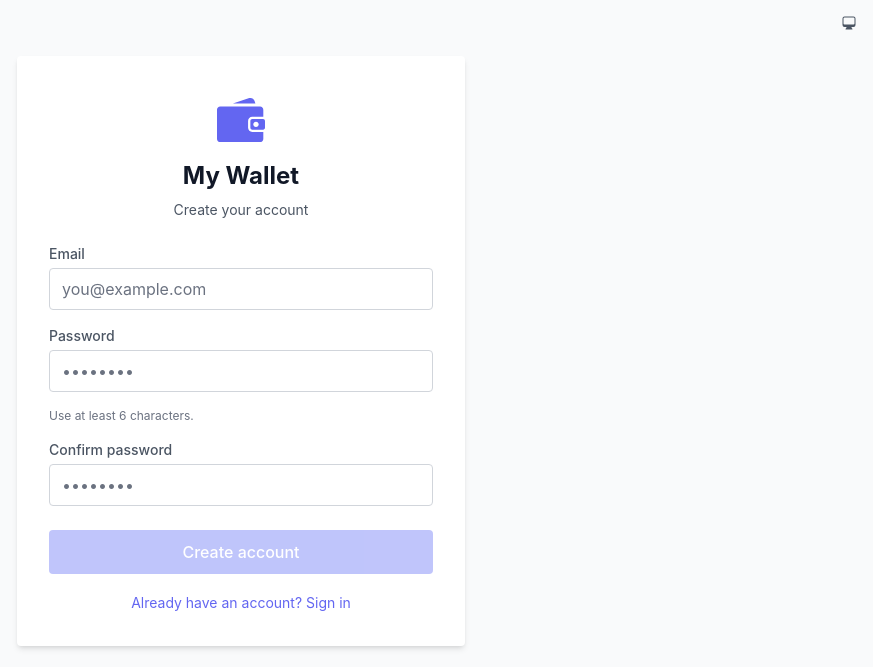
it: SignUp › asks the new user to confirm their email address
The image size is (873, 667).
Step 1. Type "new@example.com" into the field labelled "Email" → (241, 289), box [49,268,433,310]
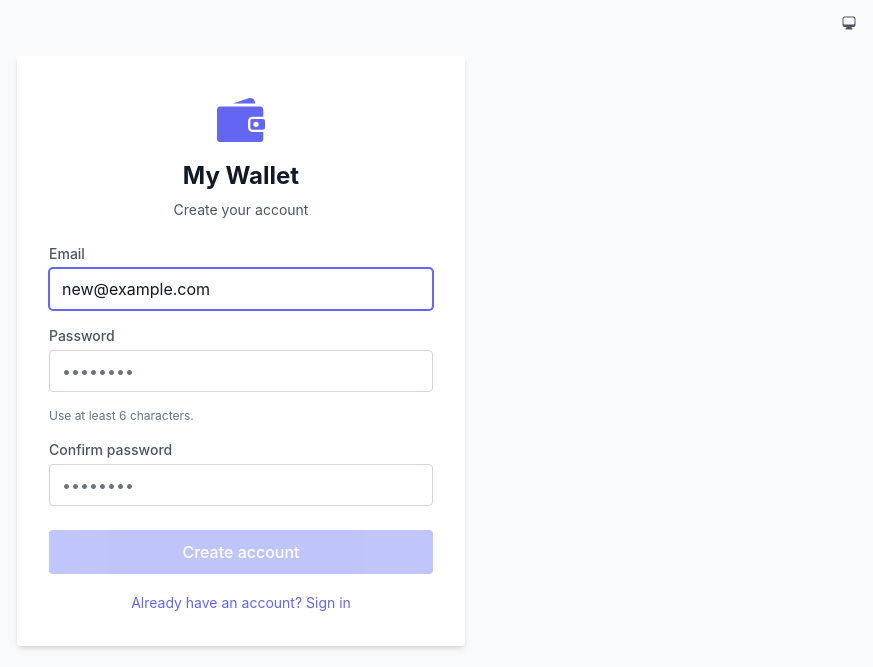
Step 2. Type "password" into the password field labelled "Password" → (241, 371), box [49,350,433,392]
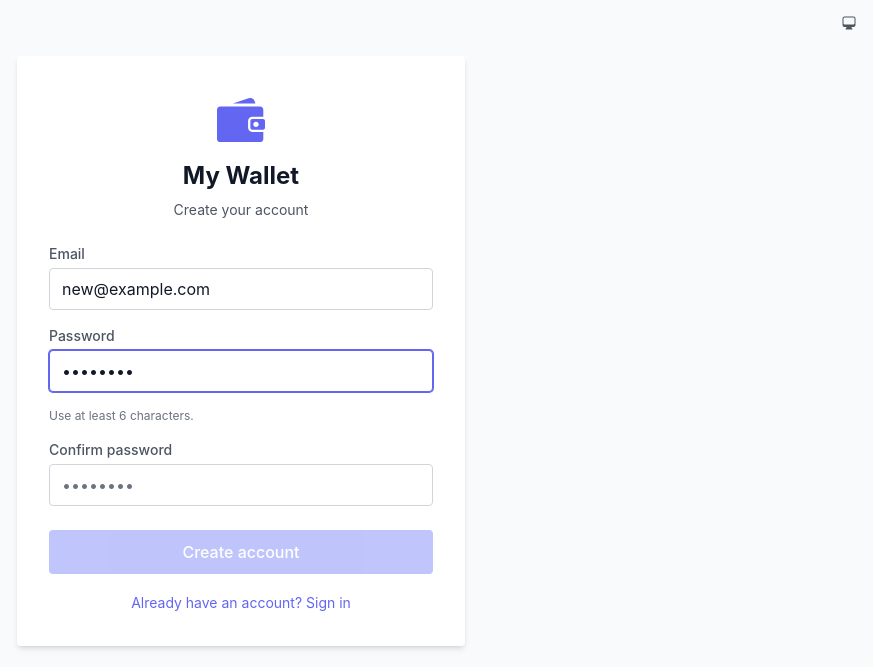
Step 3. Type "password" into the password field labelled "Confirm password" → (241, 485), box [49,464,433,506]
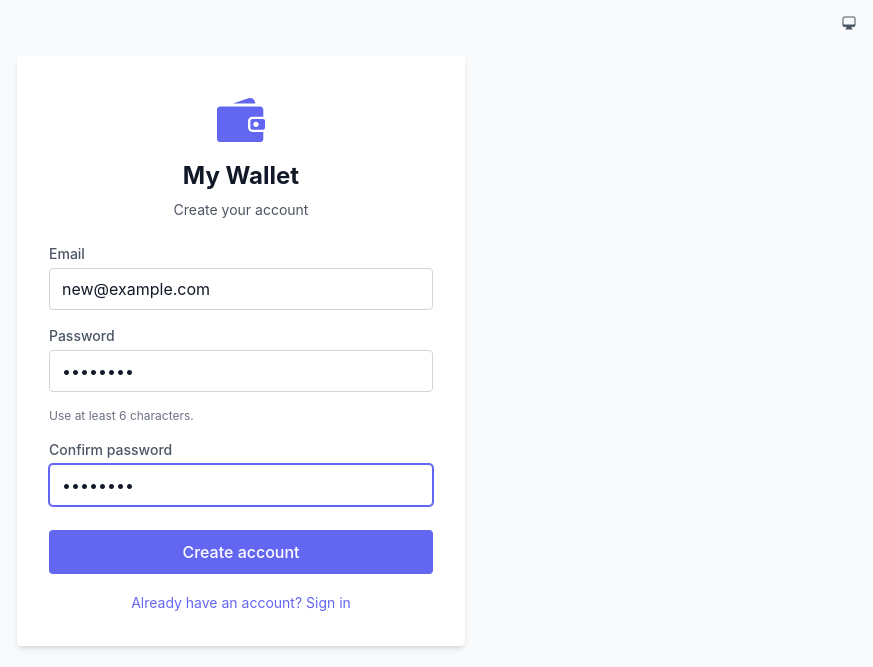
Step 4. Click the button "Create account" → (241, 552), box [49,530,433,574]
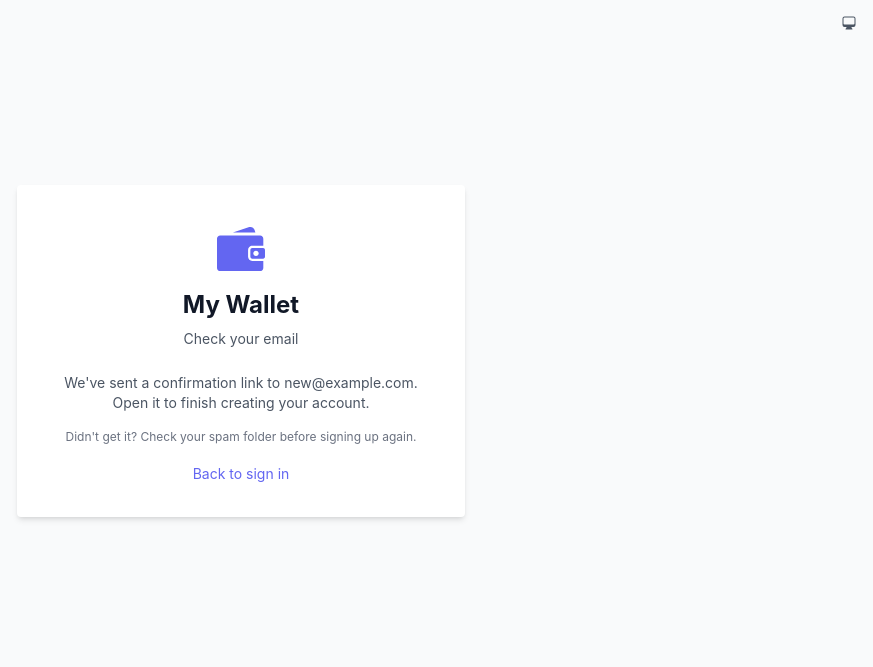
Result: the text "Check your email" is shown at [184,329,298,349]
Result: the text "We've sent a confirmation link to new@example.com" is shown at [49,373,433,413]
